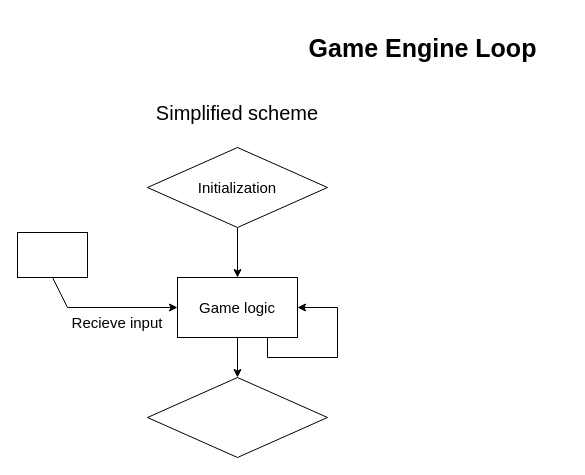
This 585x475 diagram has some shape labels left out. Here are the shapes that lost their labels. From the top down, the centre of each, then its label:
[52,255]: OS
[237,417]: Shut down
